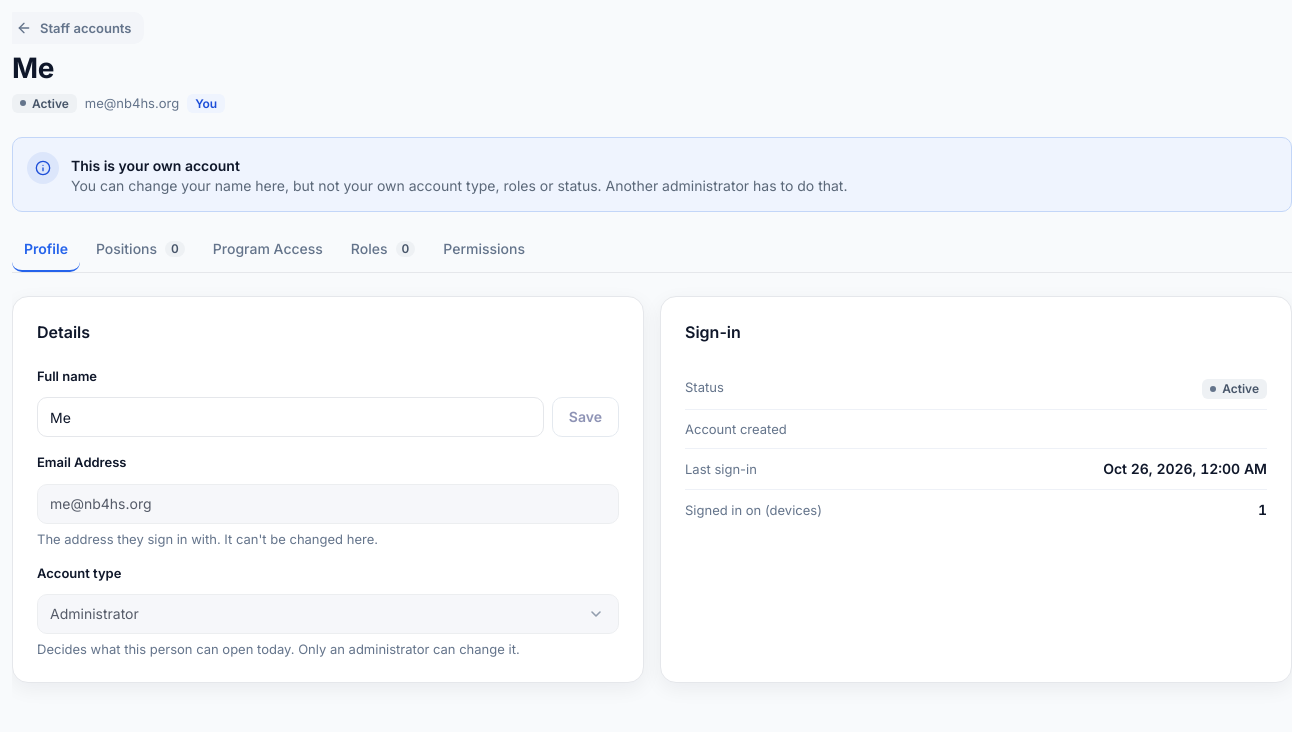
Test case: Detailed permissions › offers no changes on your own account
The image size is (1292, 732).
Step 1. Click the tab "Permissions" → [484, 250], box [431,228,537,272]
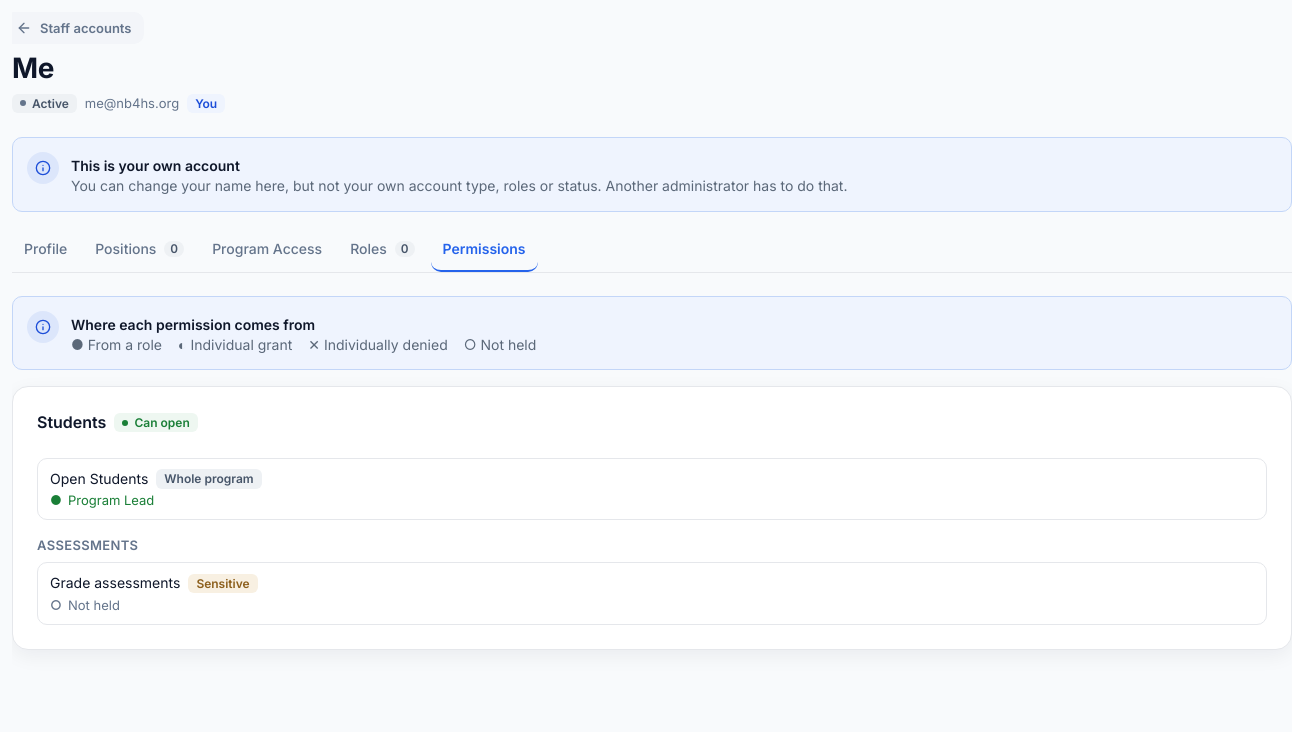
Expected: the text "Grade assessments" is shown, [50,573,180,594]
